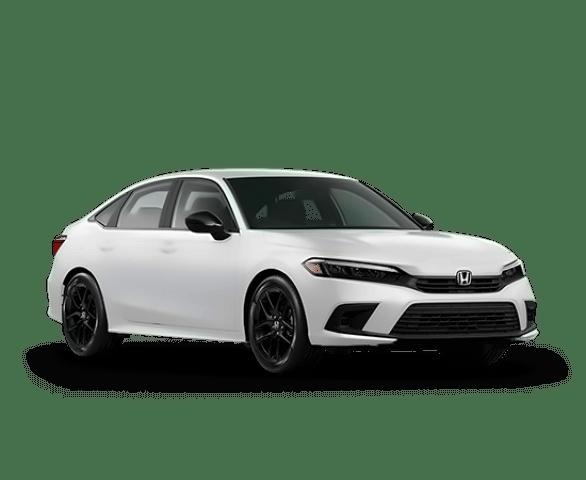Car hood: (248, 225, 525, 277)
Driver-s door - -F-R-: (159, 164, 249, 353)
Fender - -F-R-: (217, 229, 309, 325)
Fender - -R-R-: (46, 199, 109, 292)
Front bumper: (291, 273, 539, 353)
Headlight - -L-: (500, 257, 531, 287)
Headlight - -R-: (302, 258, 410, 286)
Passenger-s door - -R-R-: (89, 168, 178, 344)
Rear bumper: (44, 266, 71, 326)
Rear light - -R-: (48, 233, 71, 267)
Side bumper - -R-: (102, 302, 252, 359)
Side mirror - -R-: (182, 209, 230, 244)
